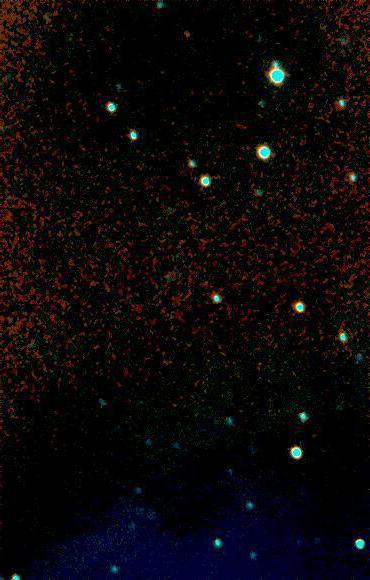star: (172, 20, 202, 50)
